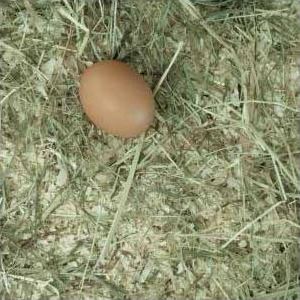egg: (78, 60, 155, 138)
